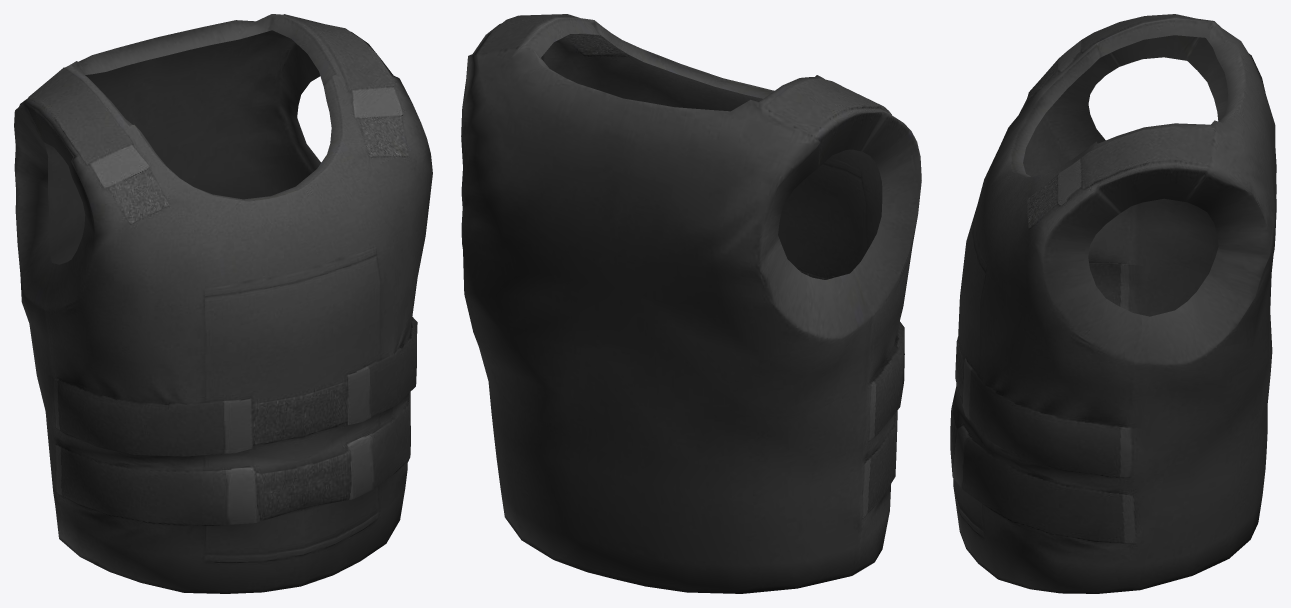
Rendered from vest1.glb.
3 renders of one model, left to right at view 1: azimuth 30°, elevation 25°; view 2: azimuth 150°, elevation 25°; view 3: azimuth 270°, elevation 25°, orthographic. The views are drawn at different scales.
Visible parts, largest first — view 1: prop; view 2: prop; view 3: prop.
Boxes of the visible parts, x1=… form: prop: x1=14, y1=14, x2=432, y2=593; prop: x1=461, y1=14, x2=921, y2=593; prop: x1=950, y1=14, x2=1276, y2=593.
Size of the model in its own units: 0.446 by 0.5595 by 0.3587.
1 material, 1 textured.
